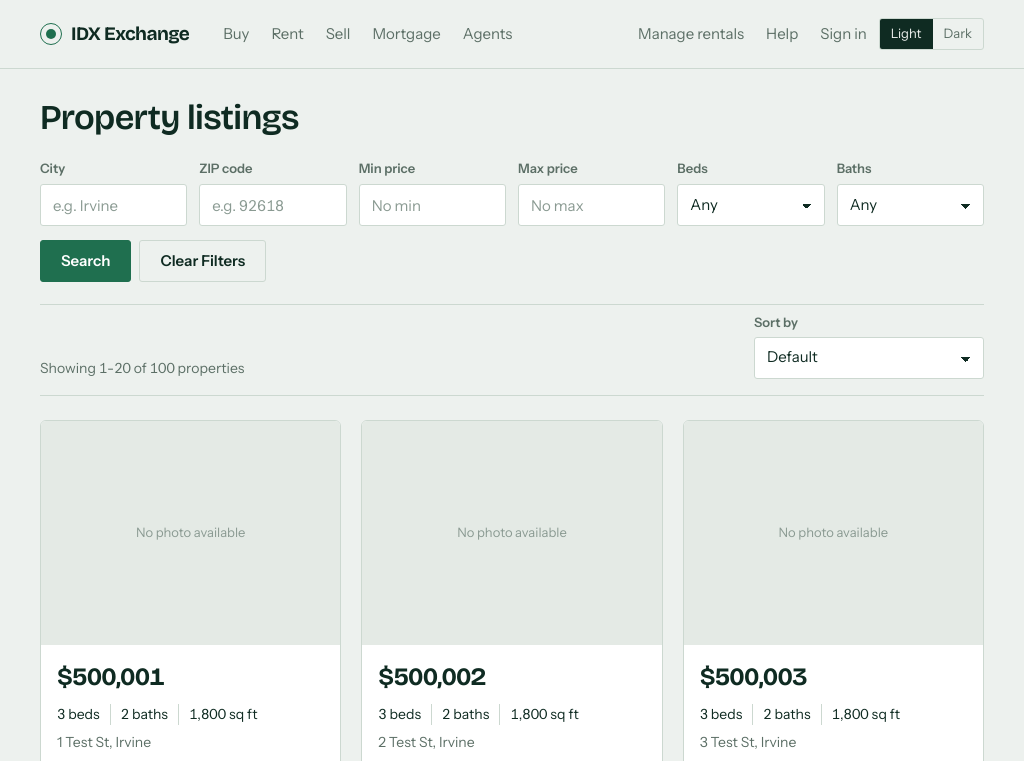
Scenario: ListingsPage pagination › Clear Filters also resets to page 1 and drops the filters
Expected: the text "Showing 1-20 of 100 properties" is shown, [40,358,244,379]
In the field labelled "City": (114,205) [40,184,187,226], type "Irvine"
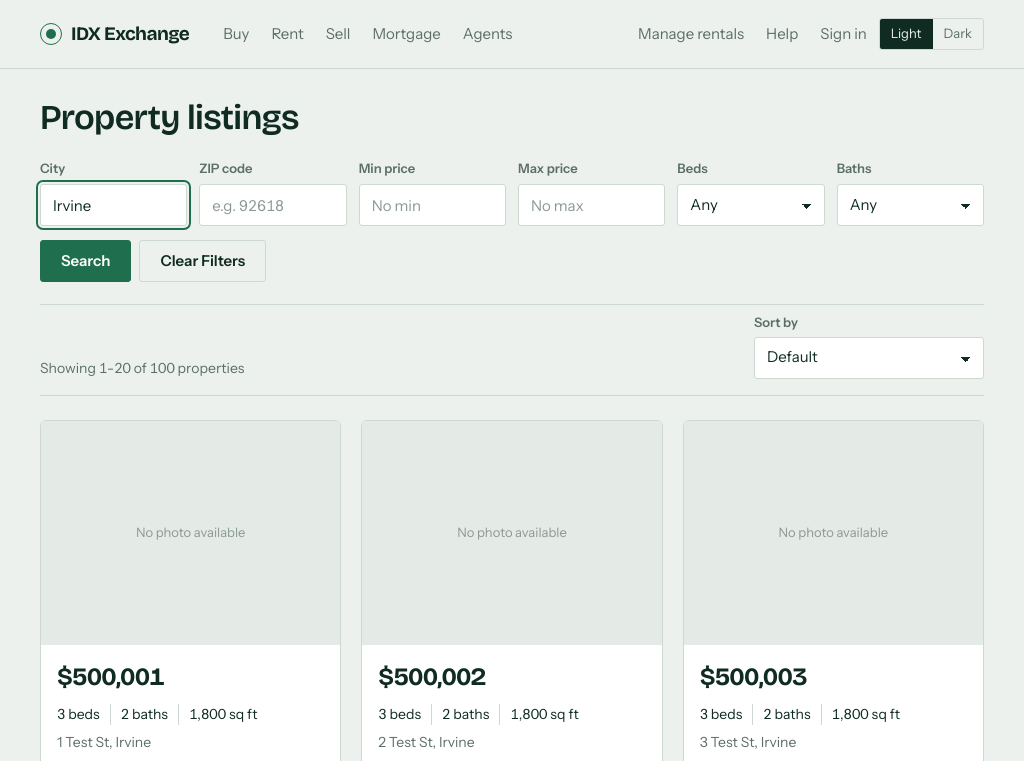
Click the button "Search": (86,261) [40,240,132,282]
(page scrolled)
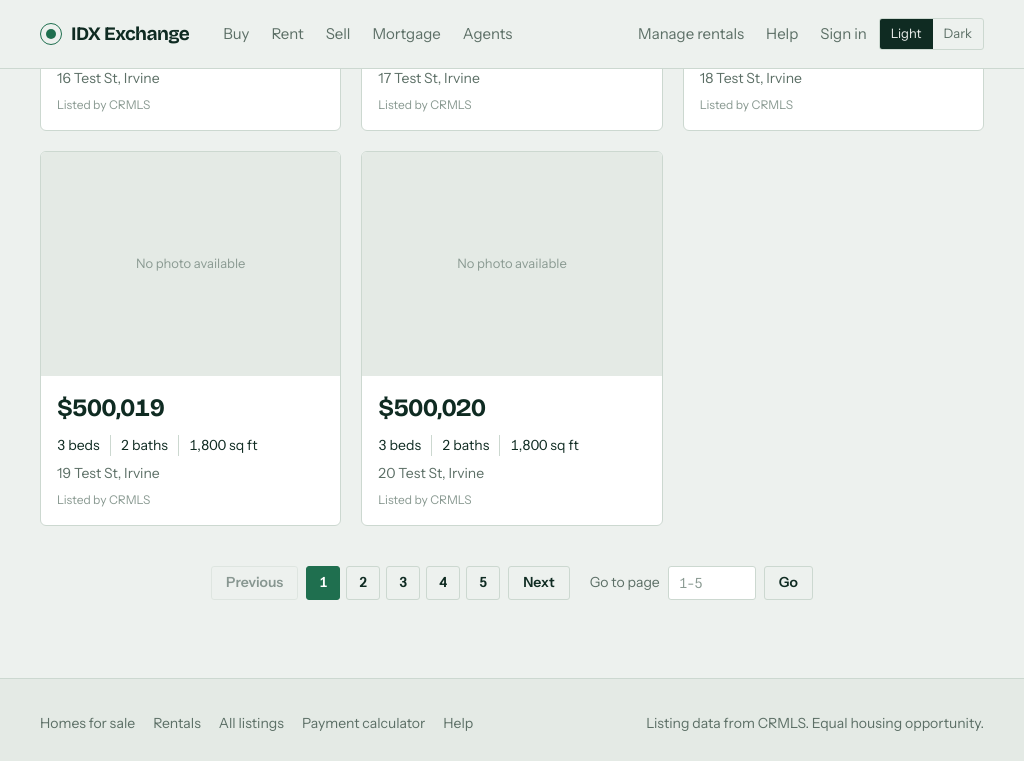
Click the button named "Page 4": (443,583) [426,566,460,600]
(page scrolled)
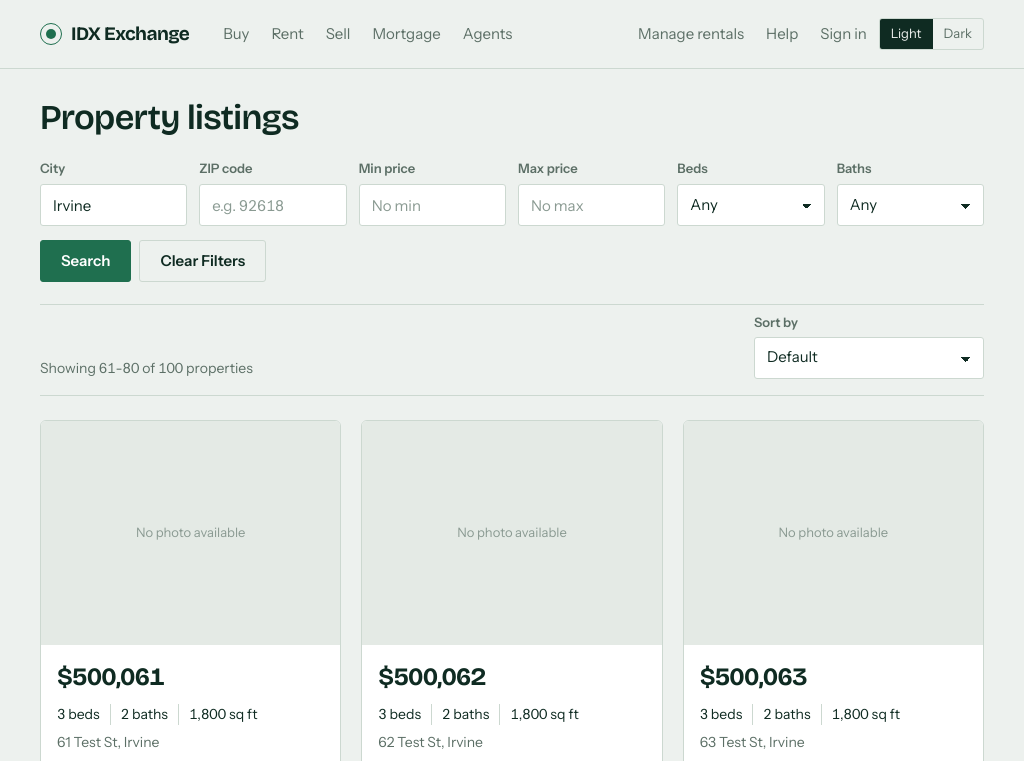
Expected: the text "Showing 61-80 of 100 properties" is shown, [40,358,253,379]
Click the button "Clear Filters": (203,261) [140,240,266,282]
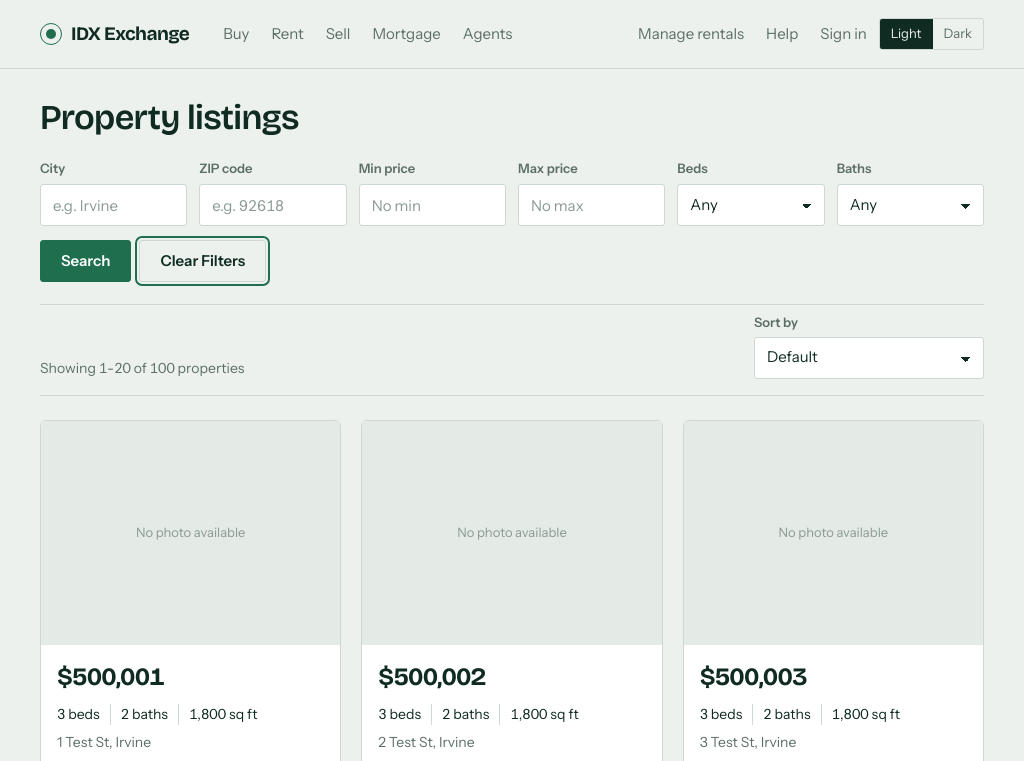
Expected: the text "Showing 1-20 of 100 properties" is shown, [40,358,244,379]
